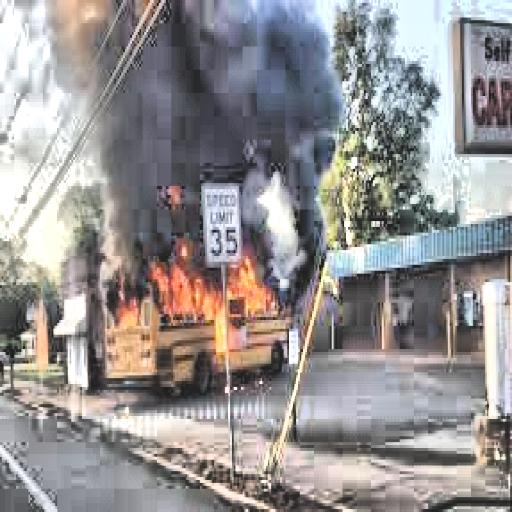fire: (150, 212, 294, 329)
